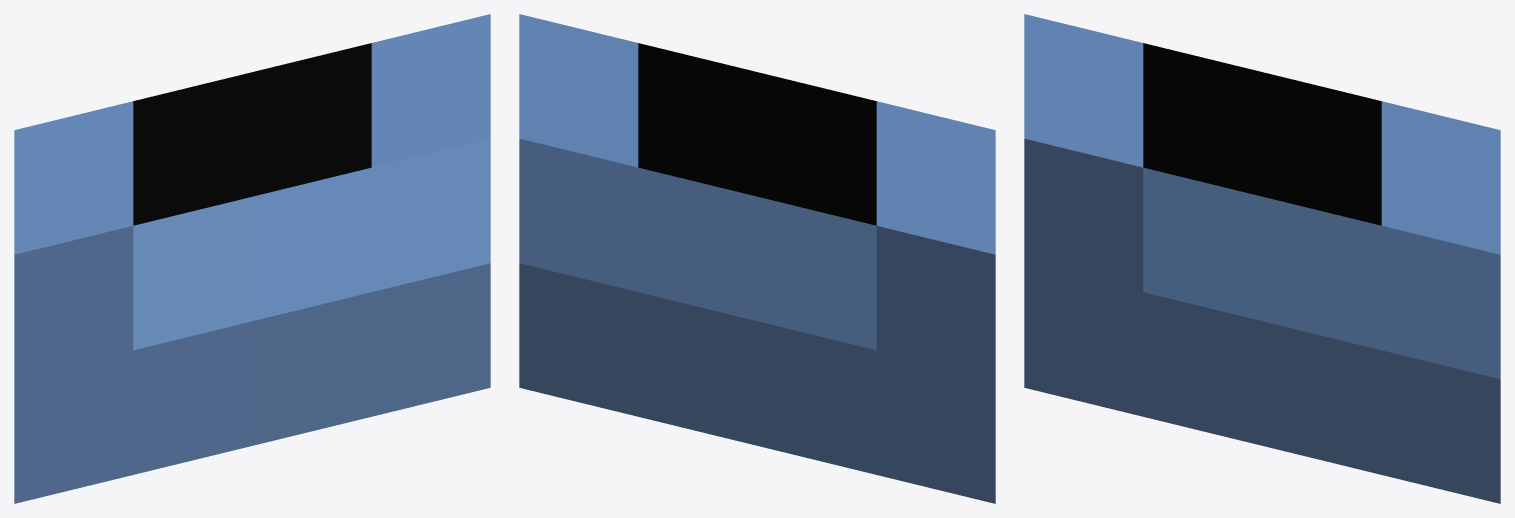
Rendered from maya_material_chart_6100_binary.fbx.
3 views of the same model, side by side, from view 1: azimuth 30°, elevation 25°; view 2: azimuth 150°, elevation 25°; view 3: azimuth 330°, elevation 25° (orthographic).
Parts seen in each view (by area): view 1: Standard_BaseFactor, FBX_EmissiveColor, Standard_BaseTexture, Standard_EmissiveTexture, FBX_DiffuseColor, FBX_DiffuseFactor, Standard_BaseColor, Standard_EmissiveColor, FBX_DiffuseTexture, FBX_DiffuseTextureFactor, FBX_EmissiveTexture, Standard_BaseTextureFactor; view 2: Standard_BaseFactor, FBX_EmissiveColor, Standard_BaseTexture, Standard_EmissiveTexture, FBX_DiffuseColor, FBX_DiffuseFactor, Standard_BaseColor, Standard_EmissiveColor, FBX_DiffuseTexture, FBX_DiffuseTextureFactor, FBX_EmissiveTexture, Standard_BaseTextureFactor; view 3: Standard_BaseFactor, FBX_EmissiveColor, Standard_BaseTexture, Standard_EmissiveTexture, FBX_DiffuseColor, FBX_DiffuseFactor, Standard_BaseColor, Standard_EmissiveColor, FBX_DiffuseTexture, FBX_DiffuseTextureFactor, FBX_EmissiveTexture, Standard_BaseTextureFactor.
Part boxes in pixels (x1=…): Standard_BaseFactor: x1=133, y1=196, x2=252, y2=350; FBX_EmissiveColor: x1=14, y1=101, x2=133, y2=254; Standard_BaseTexture: x1=371, y1=263, x2=490, y2=416; Standard_EmissiveTexture: x1=371, y1=14, x2=490, y2=167; FBX_DiffuseColor: x1=14, y1=350, x2=133, y2=503; FBX_DiffuseFactor: x1=14, y1=226, x2=133, y2=379; Standard_BaseColor: x1=133, y1=321, x2=252, y2=474; Standard_EmissiveColor: x1=133, y1=72, x2=252, y2=225; FBX_DiffuseTexture: x1=252, y1=292, x2=371, y2=445; FBX_DiffuseTextureFactor: x1=252, y1=167, x2=371, y2=320; FBX_EmissiveTexture: x1=252, y1=43, x2=371, y2=196; Standard_BaseTextureFactor: x1=371, y1=138, x2=490, y2=291; Standard_BaseFactor: x1=757, y1=196, x2=876, y2=350; FBX_EmissiveColor: x1=876, y1=101, x2=995, y2=254; Standard_BaseTexture: x1=519, y1=263, x2=638, y2=416; Standard_EmissiveTexture: x1=519, y1=14, x2=638, y2=167; FBX_DiffuseColor: x1=876, y1=350, x2=995, y2=503; FBX_DiffuseFactor: x1=876, y1=226, x2=995, y2=379; Standard_BaseColor: x1=757, y1=321, x2=876, y2=474; Standard_EmissiveColor: x1=757, y1=72, x2=876, y2=225; FBX_DiffuseTexture: x1=638, y1=292, x2=757, y2=445; FBX_DiffuseTextureFactor: x1=638, y1=167, x2=757, y2=320; FBX_EmissiveTexture: x1=638, y1=43, x2=757, y2=196; Standard_BaseTextureFactor: x1=519, y1=138, x2=638, y2=291; Standard_BaseFactor: x1=1143, y1=167, x2=1262, y2=321; FBX_EmissiveColor: x1=1024, y1=14, x2=1143, y2=167; Standard_BaseTexture: x1=1381, y1=350, x2=1500, y2=503; Standard_EmissiveTexture: x1=1381, y1=101, x2=1500, y2=254; FBX_DiffuseColor: x1=1024, y1=263, x2=1143, y2=416; FBX_DiffuseFactor: x1=1024, y1=138, x2=1143, y2=291; Standard_BaseColor: x1=1143, y1=292, x2=1262, y2=445; Standard_EmissiveColor: x1=1143, y1=43, x2=1262, y2=196; FBX_DiffuseTexture: x1=1262, y1=321, x2=1381, y2=474; FBX_DiffuseTextureFactor: x1=1262, y1=197, x2=1381, y2=350; FBX_EmissiveTexture: x1=1262, y1=72, x2=1381, y2=225; Standard_BaseTextureFactor: x1=1381, y1=226, x2=1500, y2=379.
Bounding box in the file's own units: 40 × 30 × 1.72e-14.
12 materials, 4 textured.
